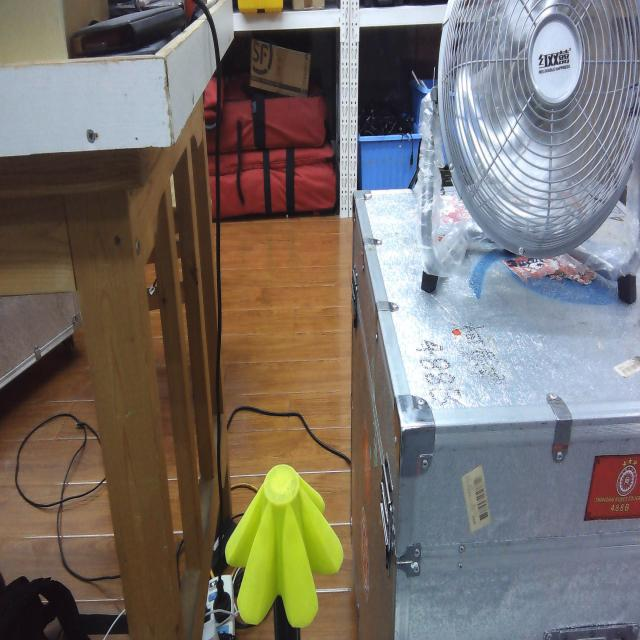Yellow-Stake-Head: (225, 463, 344, 627)
